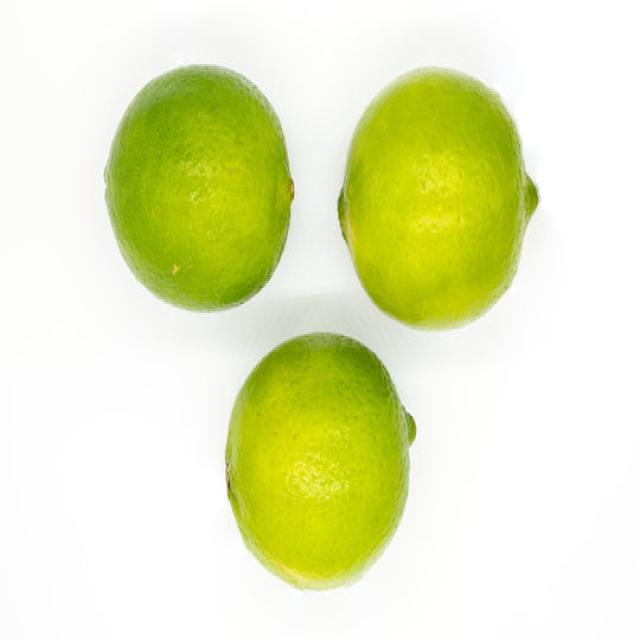Lemon: (337, 64, 539, 331), (224, 329, 416, 590), (103, 61, 294, 311)
